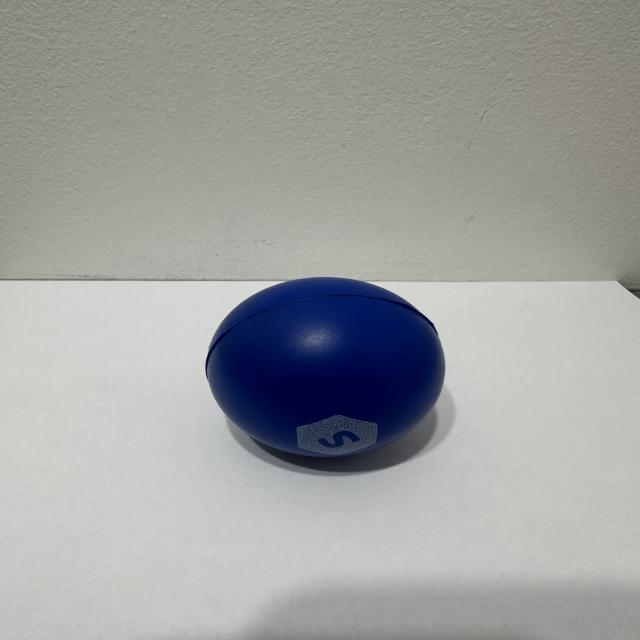blue_ball: (177, 214, 513, 498)
